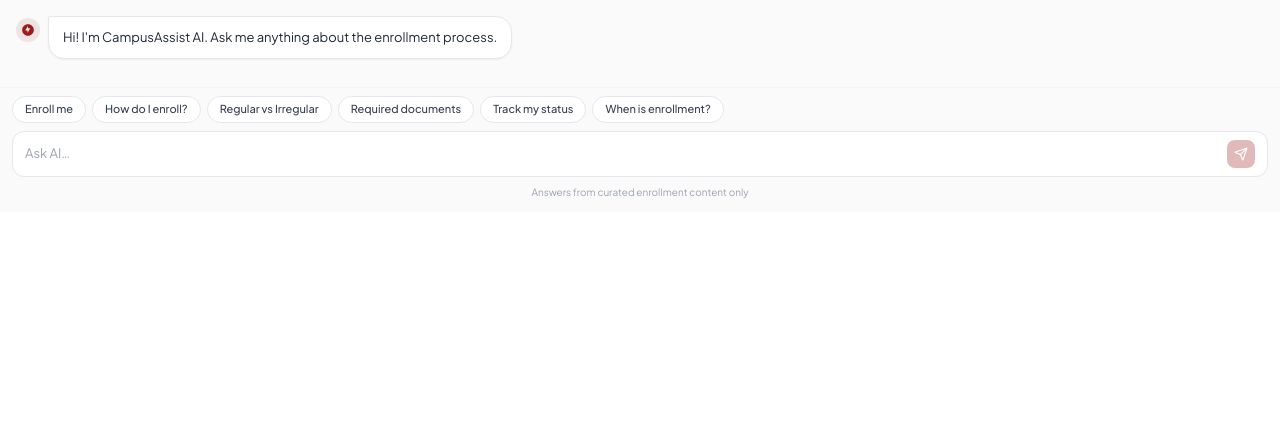
Test: ChatWindow — enrollment wizard activation › shows the Cancel enrollment link when wizard is active
Click the button "Enroll me" at point(49, 109), box x1=12 y1=96 x2=86 y2=123
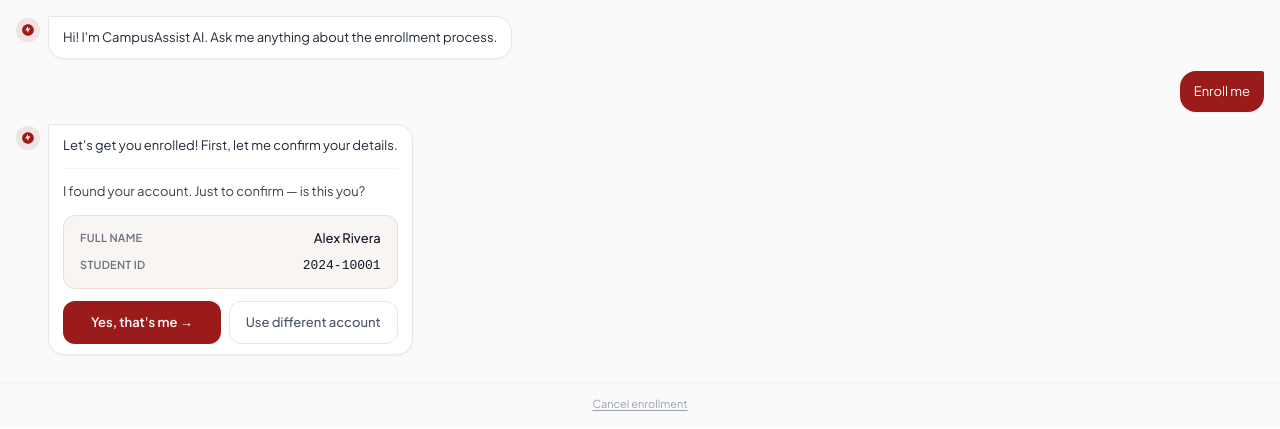
Check: the button "Cancel enrollment" is shown, box x1=592 y1=396 x2=688 y2=412
